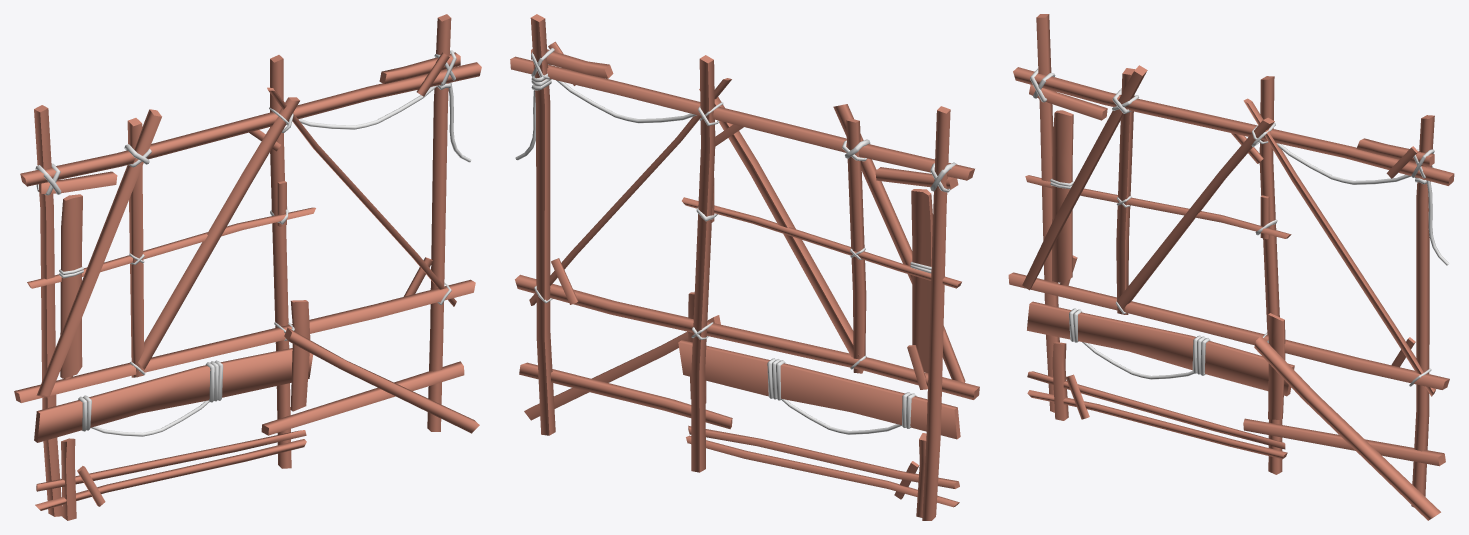
File: prop_wood_e.fbx
The picture shows the model from 3 angles, left to right: view 1: azimuth 30°, elevation 25°; view 2: azimuth 150°, elevation 25°; view 3: azimuth 330°, elevation 25°; orthographic projection. The views are drawn at different scales.
Visible parts, largest first — view 1: Cube.048, Cube.049; view 2: Cube.048, Cube.049; view 3: Cube.048, Cube.049.
Part boxes in pixels (box(x1,y1,x2,y2)): Cube.048: box(14, 14, 481, 520); Cube.049: box(35, 50, 471, 436); Cube.048: box(510, 14, 979, 520); Cube.049: box(515, 48, 956, 434); Cube.048: box(1008, 14, 1454, 520); Cube.049: box(1030, 68, 1449, 386).
Size of the model in its own units: 5.9 by 5.11 by 0.4474.
